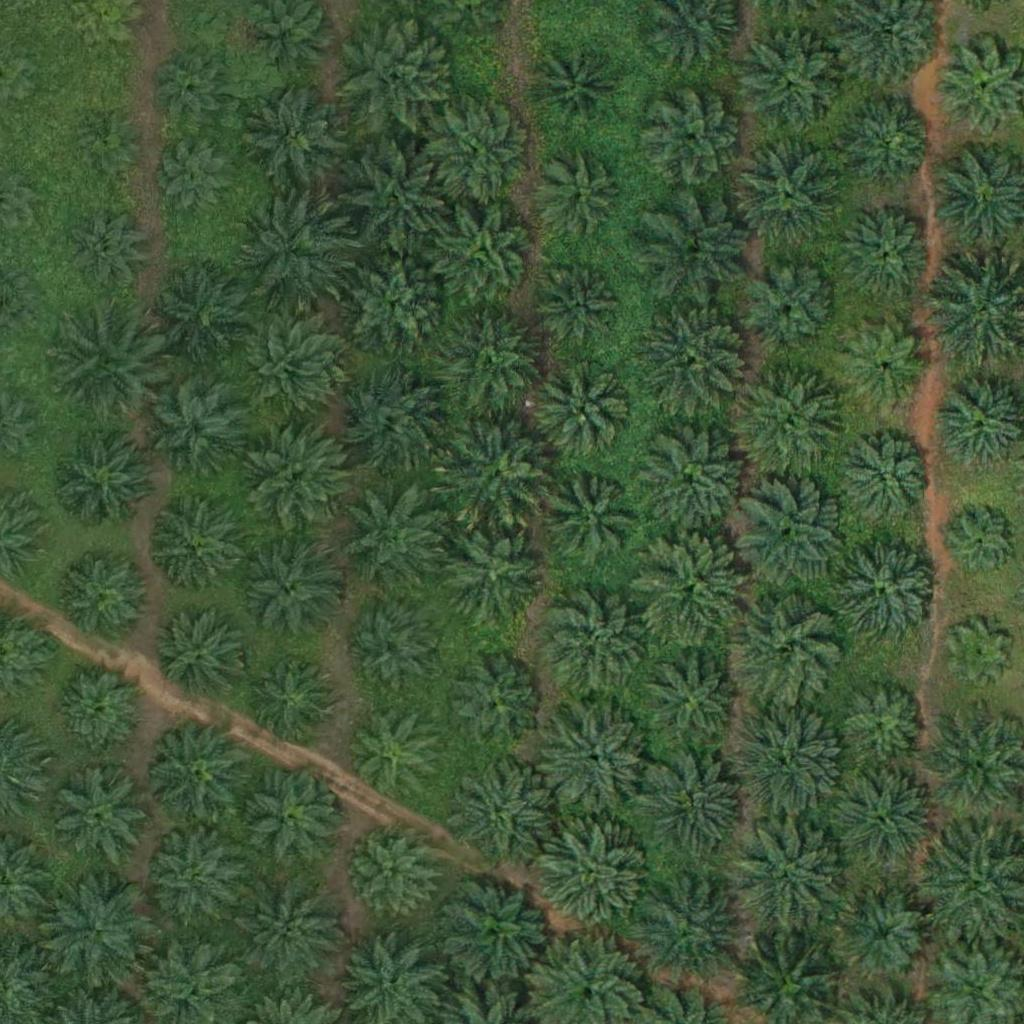Kelapa_Sawit: (147, 263, 260, 377), (143, 371, 256, 485), (734, 27, 847, 141), (444, 755, 557, 869), (239, 422, 352, 536), (340, 21, 453, 134), (640, 308, 753, 421), (635, 427, 748, 540), (728, 593, 841, 706), (732, 706, 845, 819), (733, 821, 846, 934), (633, 531, 746, 644), (635, 651, 748, 764), (436, 876, 549, 989), (234, 762, 347, 875), (43, 881, 156, 994), (52, 305, 164, 419), (631, 870, 743, 984), (541, 701, 653, 815), (537, 822, 649, 936), (337, 486, 449, 600), (234, 83, 346, 196), (235, 198, 347, 311), (340, 145, 452, 258), (337, 363, 449, 476), (441, 315, 553, 428), (640, 187, 752, 300), (733, 134, 845, 247), (730, 365, 842, 478), (832, 537, 944, 650), (826, 768, 938, 881), (732, 478, 844, 591), (636, 753, 748, 866), (542, 585, 654, 698), (438, 419, 550, 532), (237, 875, 349, 988), (141, 719, 253, 832), (143, 41, 243, 142), (347, 258, 447, 359), (436, 103, 536, 204), (434, 200, 534, 301), (526, 42, 626, 143), (533, 360, 633, 461), (642, 83, 742, 184), (739, 254, 839, 355), (834, 885, 934, 986), (539, 469, 639, 570), (143, 827, 243, 928), (52, 426, 152, 527), (53, 542, 153, 643), (49, 760, 149, 861), (243, 319, 343, 419), (836, 92, 936, 192), (836, 206, 936, 306), (442, 528, 542, 628), (443, 658, 543, 758), (342, 701, 442, 801), (239, 543, 339, 643), (146, 496, 246, 596), (841, 438, 929, 526), (838, 678, 926, 766), (154, 616, 242, 704), (56, 664, 144, 752), (536, 263, 623, 352), (539, 150, 626, 238), (841, 322, 928, 410), (344, 609, 431, 697), (351, 828, 438, 916), (242, 656, 329, 744), (68, 211, 143, 287), (160, 145, 223, 208), (80, 118, 143, 181), (952, 511, 1015, 574), (947, 622, 1010, 685)
